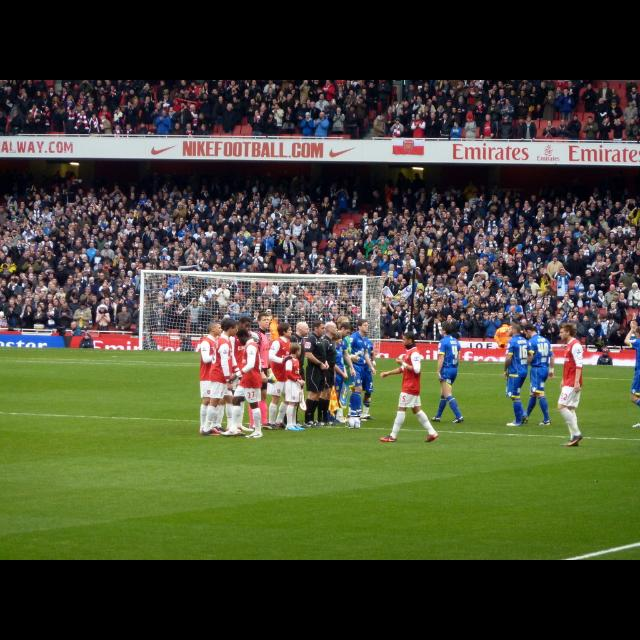Football: (346, 416, 360, 428)
